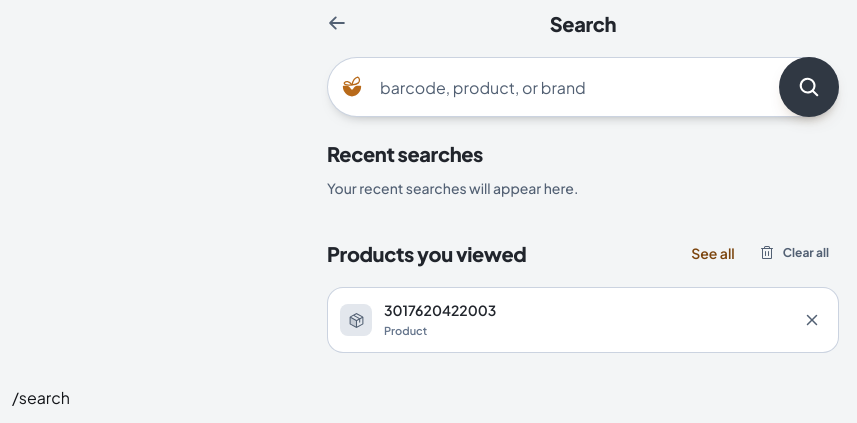
Test case: search page › removes a viewed Product from its section
The image size is (857, 423).
Click the button named "Remove Product 3017620422003 from viewed Products" at x=812, y=320, box [792,298,832,342]
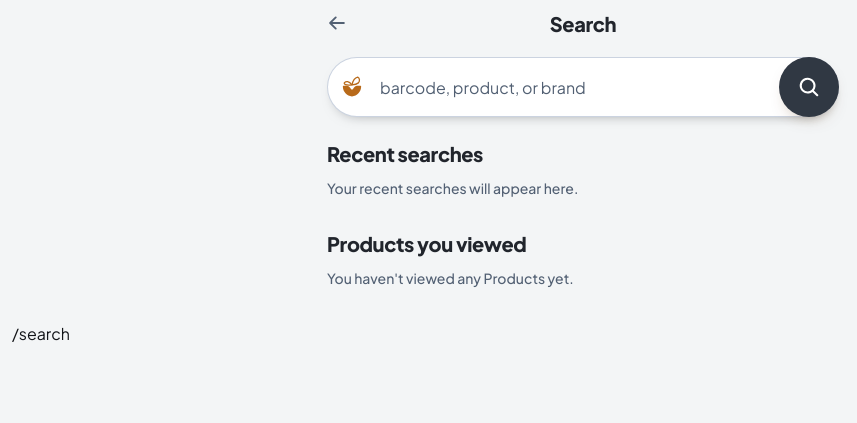
Expected: the text "You haven't viewed any Products yet." is shown, [327,269,574,287]
